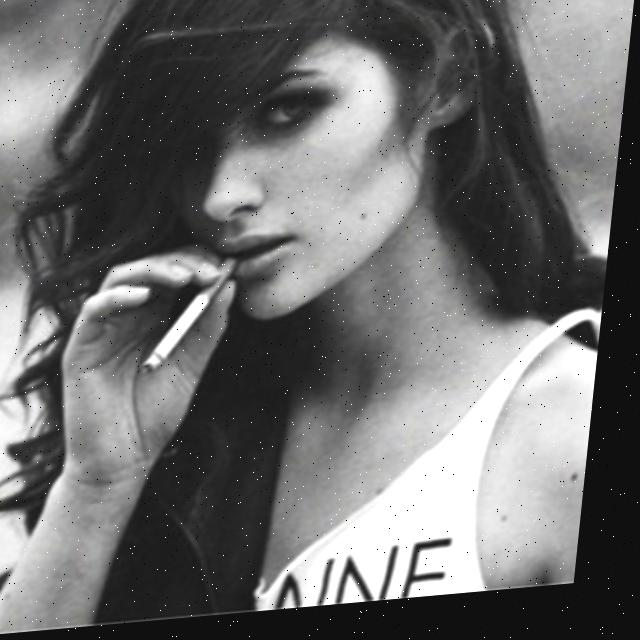cigarette: (147, 262, 244, 379)
